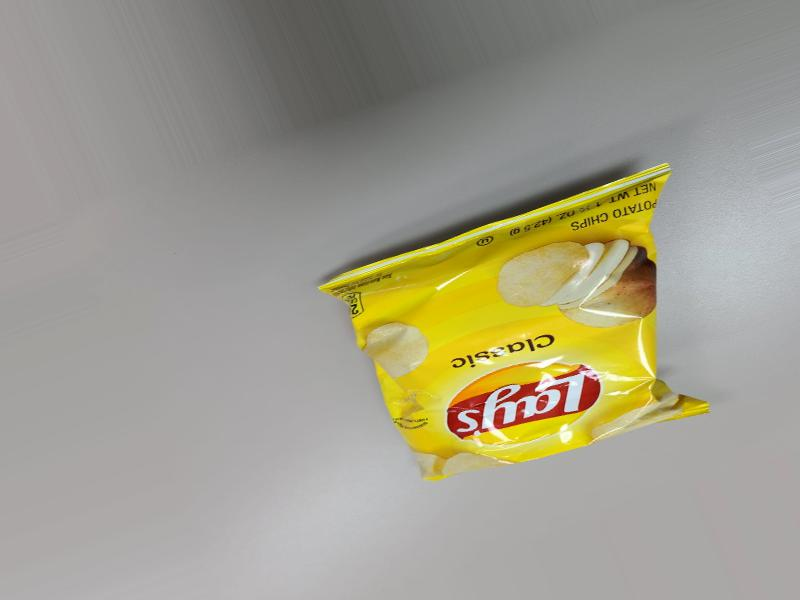lays: (311, 199, 679, 466)
